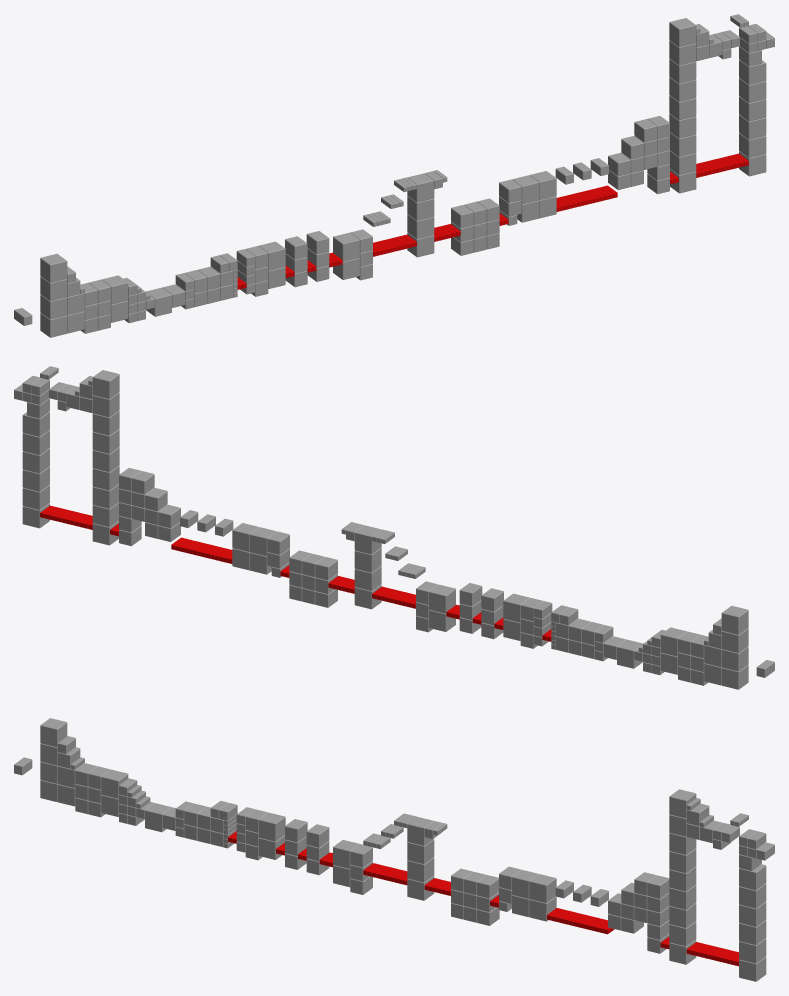
File: mapplaceholder.fbx
The picture shows the model from 3 angles, top to bottom: view 1: azimuth 30°, elevation 25°; view 2: azimuth 150°, elevation 25°; view 3: azimuth 330°, elevation 25°; orthographic projection.
Visible parts, largest first — view 1: polySurface9, pasted__pCube287, polySurface12, pasted__pCube212, pasted__pCube235; view 2: polySurface9, pasted__pCube287, polySurface12, pasted__pCube212, pasted__pCube235; view 3: polySurface9, pasted__pCube258, pasted__pCube203, polySurface12, pasted__pCube306, pasted__pCube162, pasted__pCube287, pasted__pCube235, pasted__pCube237, pasted__pCube284, pasted__pCube310, pasted__pCube312 (+13 smaller).
Boxes of the visible parts, box(x1,y1,x2,y2) form: polySurface9: box(40, 34, 766, 337); pasted__pCube287: box(669, 18, 696, 47); polySurface12: box(40, 253, 67, 282); pasted__pCube212: box(333, 232, 359, 261); pasted__pCube235: box(407, 173, 434, 202); polySurface9: box(22, 386, 748, 689); pasted__pCube287: box(92, 370, 119, 399); polySurface12: box(721, 605, 748, 634); pasted__pCube212: box(429, 584, 455, 613); pasted__pCube235: box(354, 525, 381, 554); polySurface9: box(40, 743, 765, 953); pasted__pCube258: box(529, 874, 556, 903); pasted__pCube203: box(258, 812, 285, 841); polySurface12: box(40, 718, 67, 747); pasted__pCube306: box(739, 864, 766, 890); pasted__pCube162: box(101, 769, 128, 798); pasted__pCube287: box(669, 789, 696, 818); pasted__pCube235: box(407, 816, 433, 845); pasted__pCube237: box(407, 857, 434, 882); pasted__pCube284: box(669, 848, 696, 873); pasted__pCube310: box(739, 902, 766, 926); pasted__pCube312: box(739, 938, 766, 963).
Size of the model in its own units: 172 by 38 by 4.
